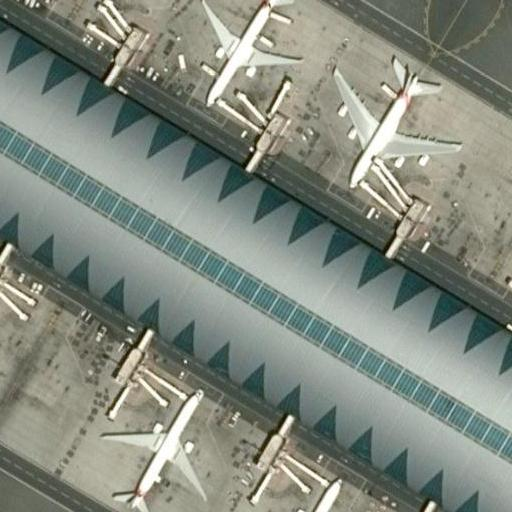Aircraft: (320, 44, 462, 194), (96, 378, 212, 512), (182, 0, 301, 113), (238, 465, 352, 512)
